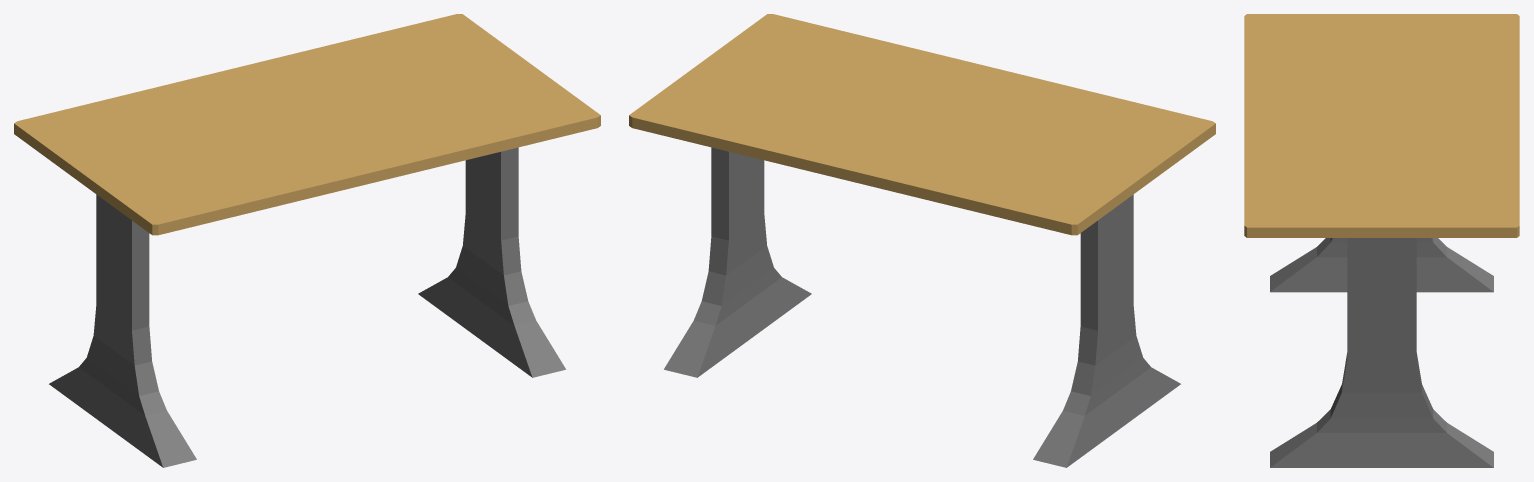
The model's file is Meja_MarkasBesar.fbx.
The picture shows the model from 3 angles, left to right: view 1: azimuth 30°, elevation 25°; view 2: azimuth 150°, elevation 25°; view 3: azimuth 270°, elevation 25°; orthographic projection. The views are drawn at different scales.
Visible parts, largest first — view 1: Meja_MarkasUtama; view 2: Meja_MarkasUtama; view 3: Meja_MarkasUtama.
Part boxes in pixels (<box>): Meja_MarkasUtama: <box>14,14,600,467</box>; Meja_MarkasUtama: <box>629,14,1215,467</box>; Meja_MarkasUtama: <box>1244,14,1519,467</box>.
Size of the model in its own units: 243 by 133 by 132.
